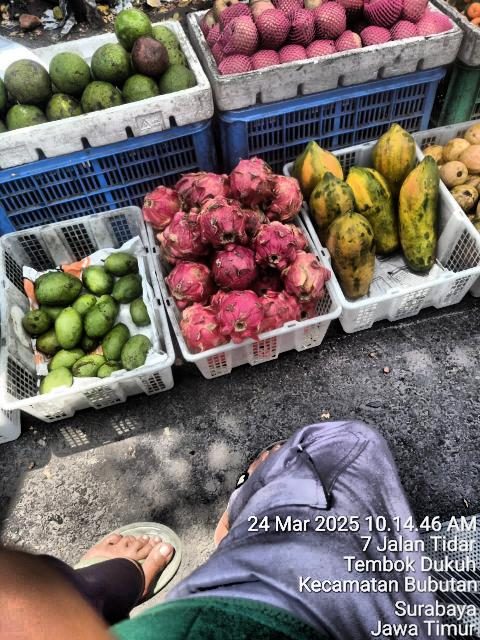buah-naga-belum-matang: (281, 252, 329, 302), (268, 174, 304, 218)
buah-naga-matang: (250, 218, 298, 270), (196, 200, 252, 242), (217, 292, 263, 341), (213, 244, 265, 286), (164, 262, 215, 304), (227, 157, 275, 201), (177, 304, 221, 352), (164, 214, 212, 256), (258, 290, 304, 326), (138, 189, 184, 221), (194, 173, 230, 204), (176, 172, 202, 204)
